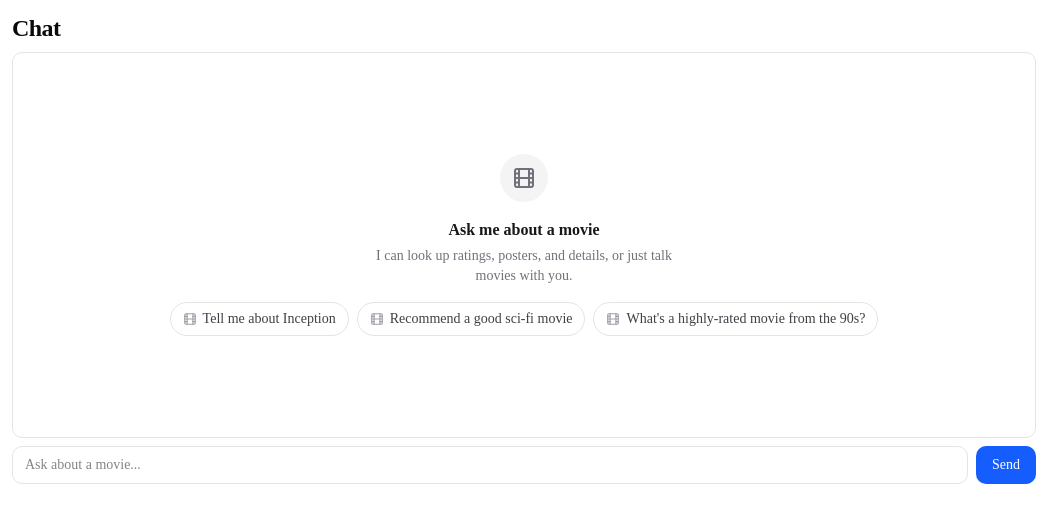
Test: ChatPage input validation › shows a validation error with role=alert when submitting an empty message
The width and height of the screenshot is (1048, 524).
Step 1. Click the button "Send" → (1006, 465), box [976,446,1036,484]
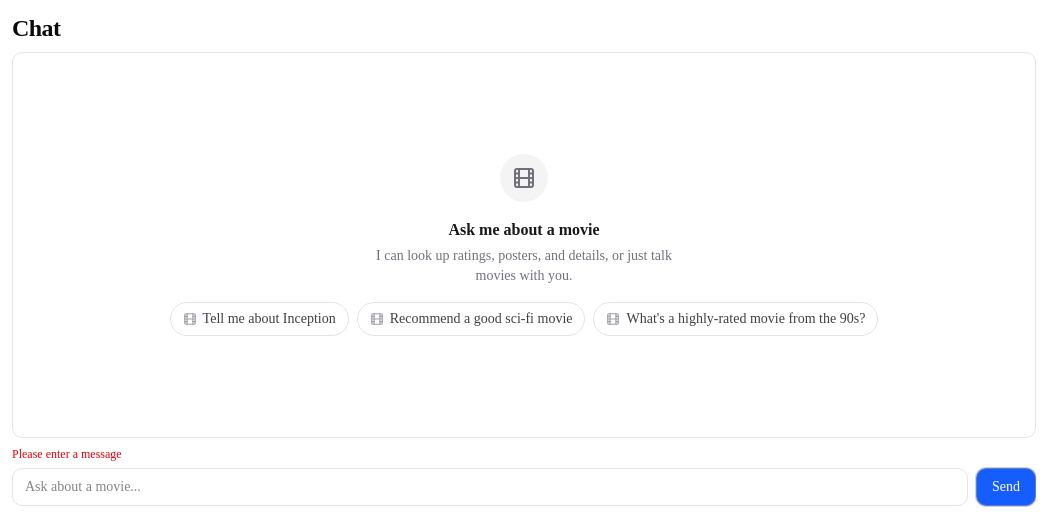
Expected: the message reads "Please enter a message", [12,447,122,461]
